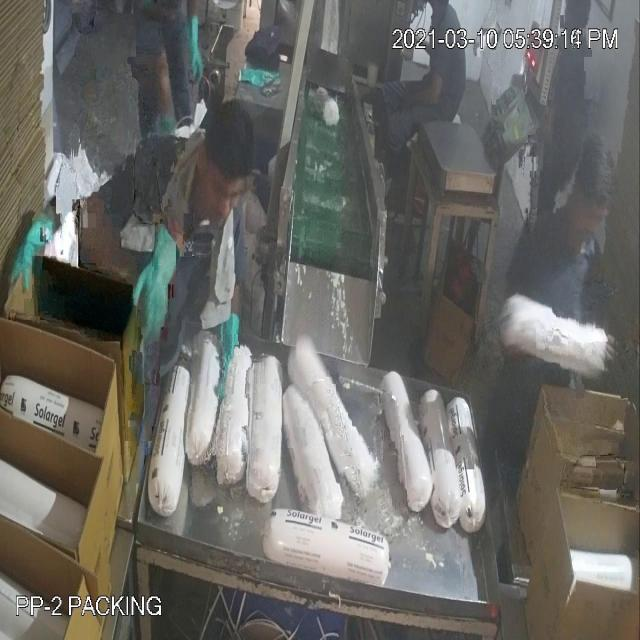Gloves: (130, 214, 184, 359)
